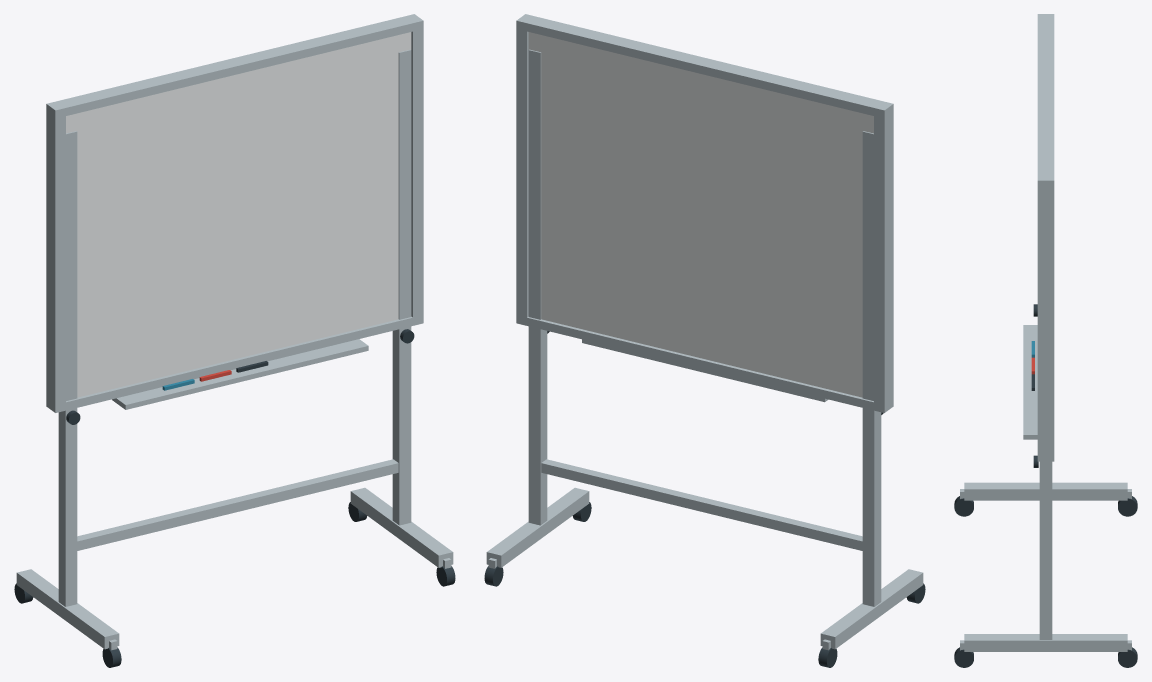
File: whiteboard.glb
The picture shows the model from 3 angles, left to right: view 1: azimuth 30°, elevation 25°; view 2: azimuth 150°, elevation 25°; view 3: azimuth 270°, elevation 25°; orthographic projection. The views are drawn at different scales.
Visible parts, largest first — view 1: writing_panel, stand_upright (×2), horizontal_frame (×2), side_frame (×2), stand_crossbar, stand_foot (×2), pen_tray; view 2: writing_panel, stand_upright (×2), horizontal_frame (×2), side_frame (×2), stand_crossbar, stand_foot (×2), pen_tray; view 3: stand_foot (×2), side_frame, horizontal_frame, stand_upright, pen_tray, caster (×4).
Part boxes in pixels (x1=…): writing_panel: x1=66, y1=32, x2=411, y2=397; stand_upright (×2): x1=58, y1=49, x2=411, y2=606; horizontal_frame (×2): x1=46, y1=16, x2=423, y2=412; side_frame (×2): x1=46, y1=14, x2=423, y2=412; stand_crossbar: x1=77, y1=459, x2=398, y2=550; stand_foot (×2): x1=16, y1=487, x2=453, y2=649; pen_tray: x1=112, y1=339, x2=368, y2=409; writing_panel: x1=528, y1=32, x2=873, y2=397; stand_upright (×2): x1=528, y1=49, x2=881, y2=606; horizontal_frame (×2): x1=516, y1=16, x2=893, y2=412; side_frame (×2): x1=516, y1=14, x2=893, y2=412; stand_crossbar: x1=541, y1=459, x2=862, y2=550; stand_foot (×2): x1=486, y1=487, x2=923, y2=649; pen_tray: x1=582, y1=339, x2=828, y2=402; stand_foot (×2): x1=964, y1=482, x2=1127, y2=651; side_frame: x1=1037, y1=176, x2=1054, y2=461; horizontal_frame: x1=1037, y1=18, x2=1054, y2=187; stand_upright: x1=1039, y1=461, x2=1052, y2=639; pen_tray: x1=1023, y1=325, x2=1037, y2=439; caster (×4): x1=954, y1=496, x2=1137, y2=667.
Size of the model in its own units: 1.4 by 1.93 by 0.65.
